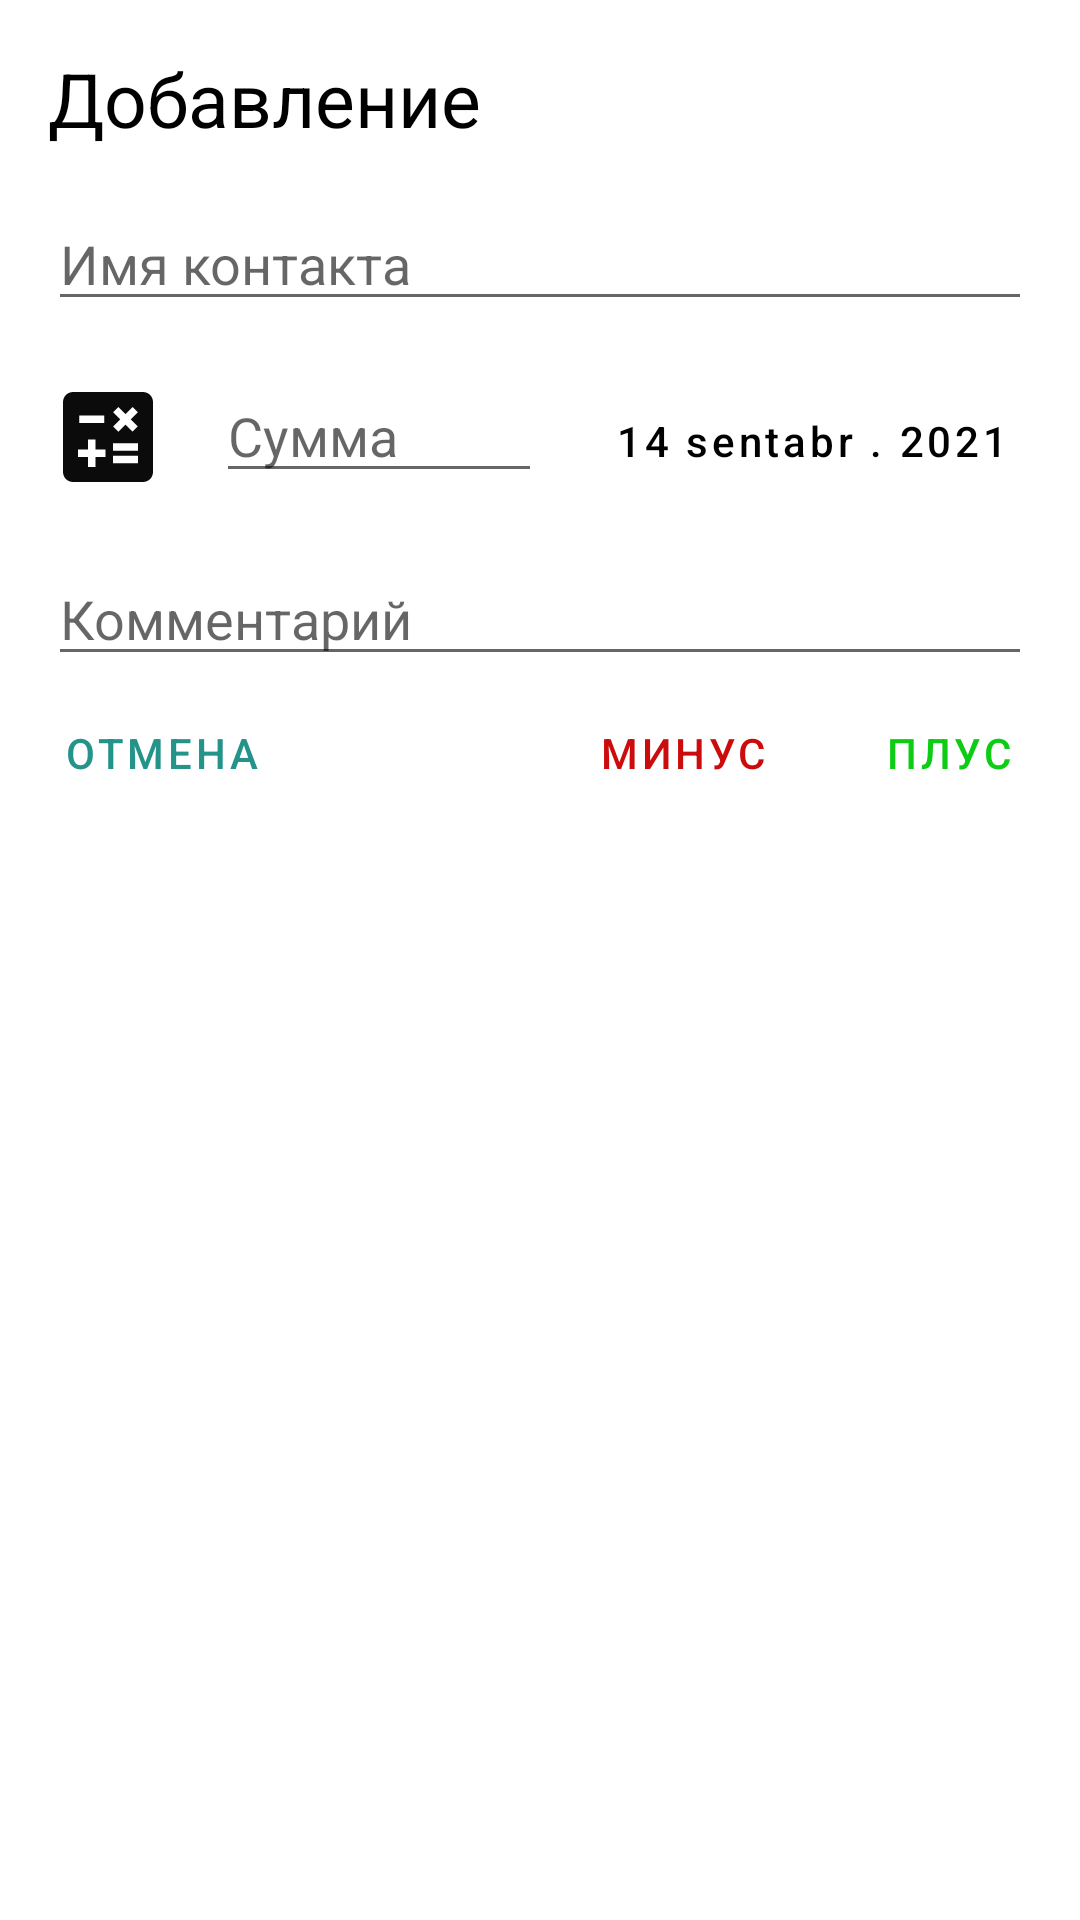

Icons on this 1080 × 1920 Android screen, each with its box as Rect(x1, y1, x2, y2):
calculate: Rect(63, 392, 153, 482)
